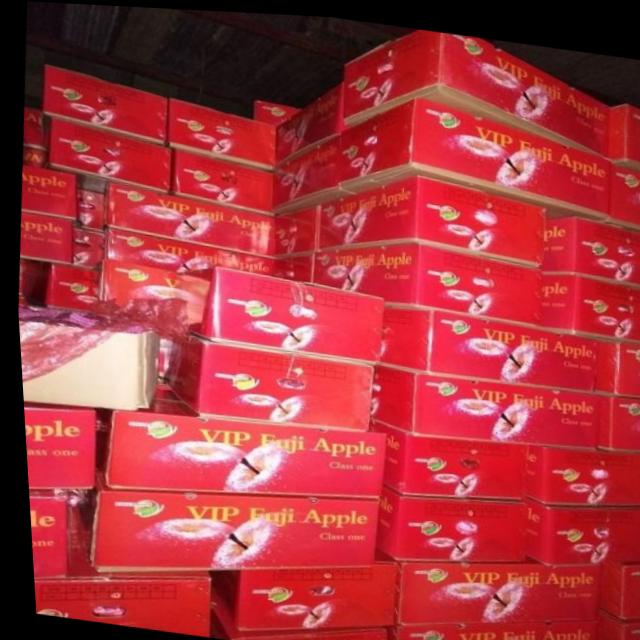box: (341, 25, 608, 153), (337, 91, 607, 216), (97, 396, 382, 493), (85, 488, 376, 570), (27, 508, 201, 635), (313, 170, 544, 261), (162, 331, 367, 428), (309, 237, 537, 322), (365, 359, 594, 443), (182, 263, 380, 358), (374, 301, 591, 385), (387, 549, 593, 620), (226, 544, 390, 627), (101, 180, 272, 255), (362, 414, 521, 493), (369, 482, 520, 556), (18, 328, 153, 409), (43, 63, 167, 144), (44, 115, 169, 191), (204, 586, 377, 640), (519, 492, 640, 560), (166, 95, 272, 168), (102, 227, 272, 272), (520, 438, 640, 499), (537, 210, 640, 280), (536, 268, 640, 337), (97, 258, 206, 321), (269, 131, 355, 210), (170, 145, 271, 211), (19, 402, 90, 489), (272, 77, 343, 162), (380, 615, 590, 640), (18, 163, 74, 219), (589, 331, 640, 392), (23, 493, 60, 577), (16, 210, 70, 264), (593, 552, 640, 613), (41, 262, 97, 311), (593, 388, 640, 445), (607, 156, 640, 224), (608, 96, 640, 164), (589, 603, 640, 640), (69, 226, 103, 268), (251, 97, 297, 121)
